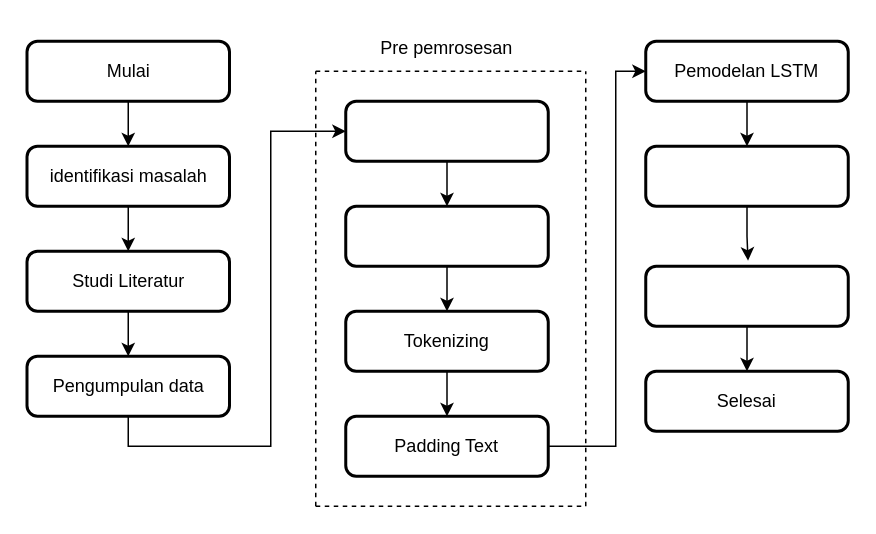
The diagram is 876 pixels wide and 534 high, and some of its shapes have lost their labels. Each missing label, with the box of its shape:
Lematization: (344, 204, 549, 267)
Remove Punctuation: (344, 99, 549, 162)
Simpan Model: (644, 264, 849, 327)
Testing: (644, 144, 849, 207)
